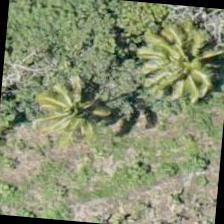Kelapa_Sawit: (15, 66, 114, 164), (132, 14, 223, 113)
